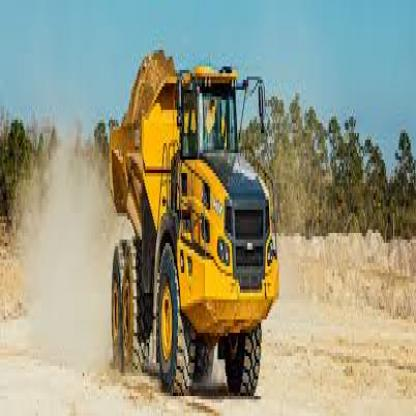dump_truck: (98, 37, 282, 413)
